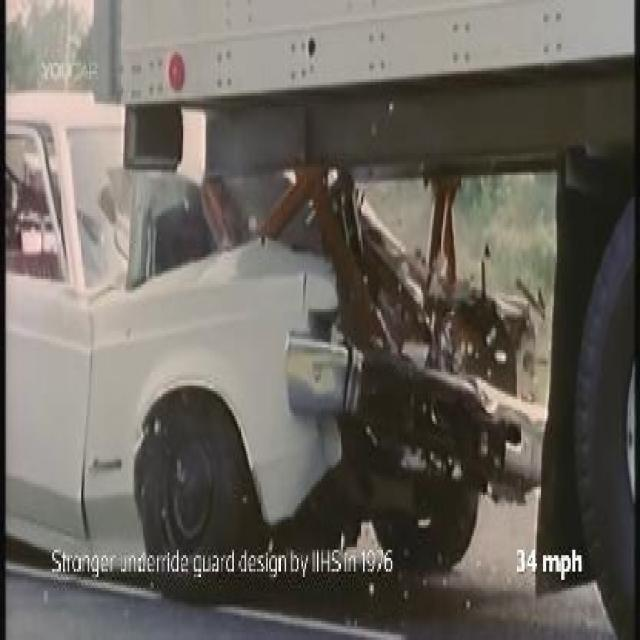accident: (4, 0, 635, 637)
